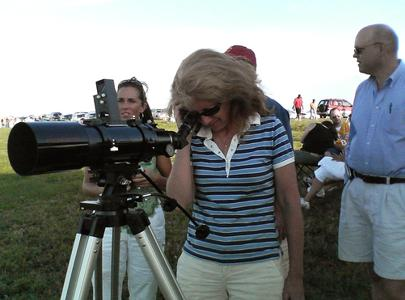person: (167, 49, 306, 300)
